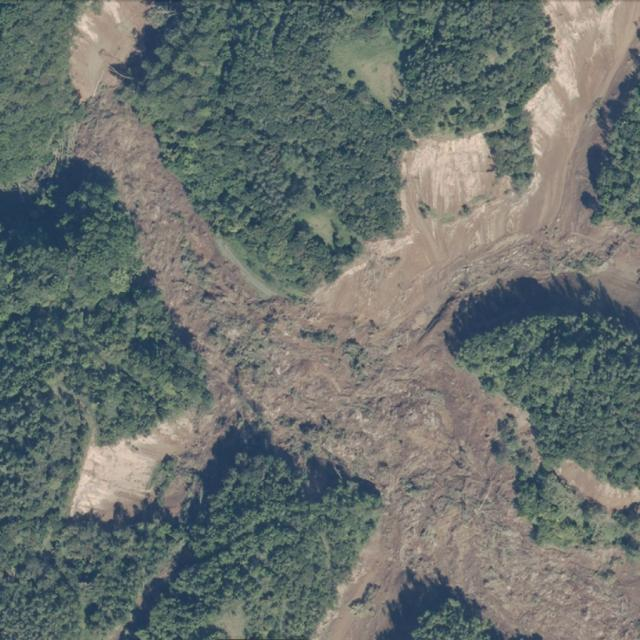landslide: (74, 1, 640, 639), (70, 417, 194, 521)
